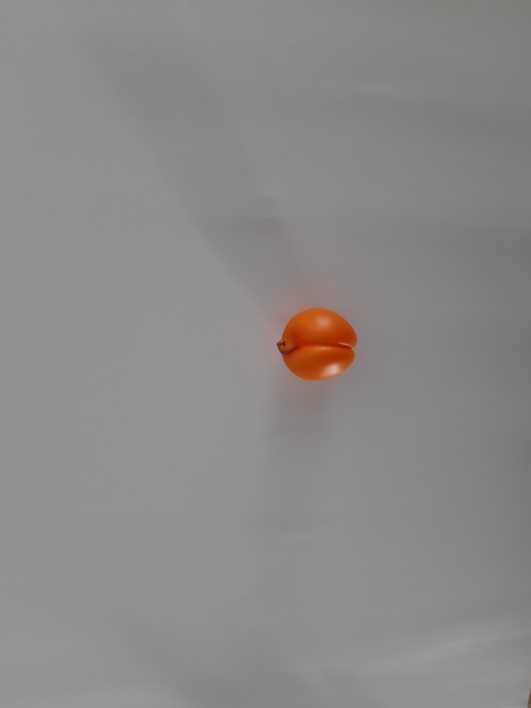apricot: (248, 291, 379, 401)
